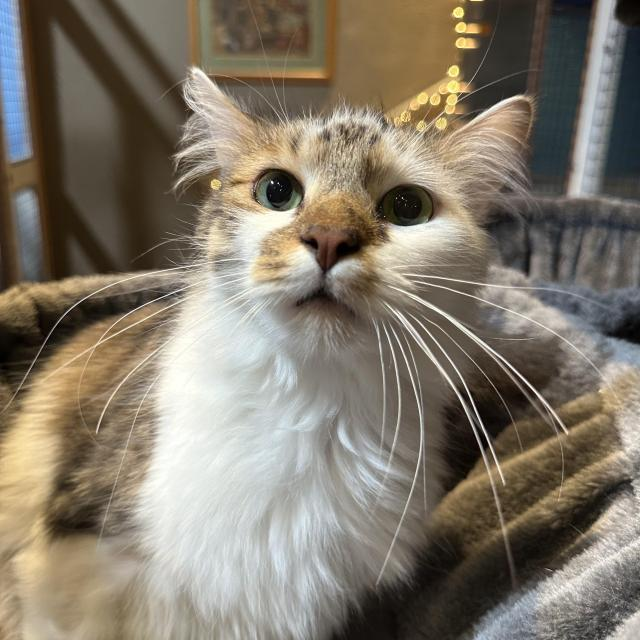maine_coon_cat: (165, 45, 548, 445)
